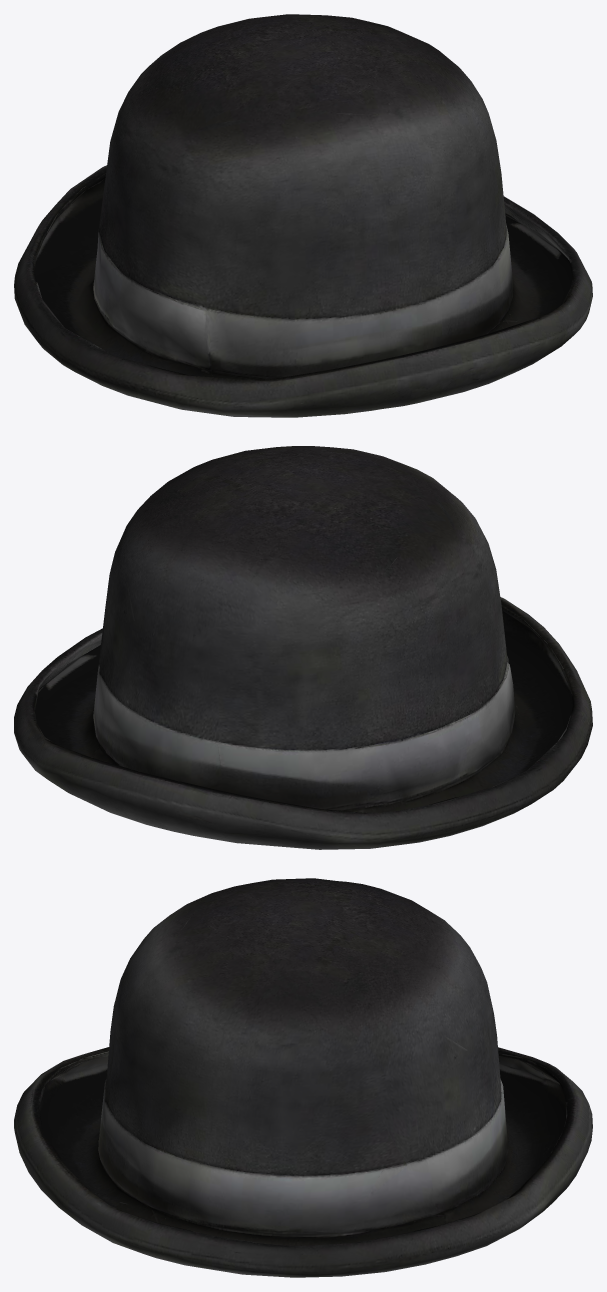
File: bowler-hat.glb
3 renders of one model, top to bottom at view 1: azimuth 30°, elevation 25°; view 2: azimuth 150°, elevation 25°; view 3: azimuth 270°, elevation 25°, orthographic. The views are drawn at different scales.
Visible parts, largest first — view 1: Mesh1.0; view 2: Mesh1.0; view 3: Mesh1.0.
Boxes of the visible parts, <box> form: Mesh1.0: <box>14,14,592,417</box>; Mesh1.0: <box>14,446,592,849</box>; Mesh1.0: <box>14,878,592,1277</box>.
Size of the model in its own units: 0.0782 by 0.04 by 0.0812.
Materials: 1 (1 with a texture image).
